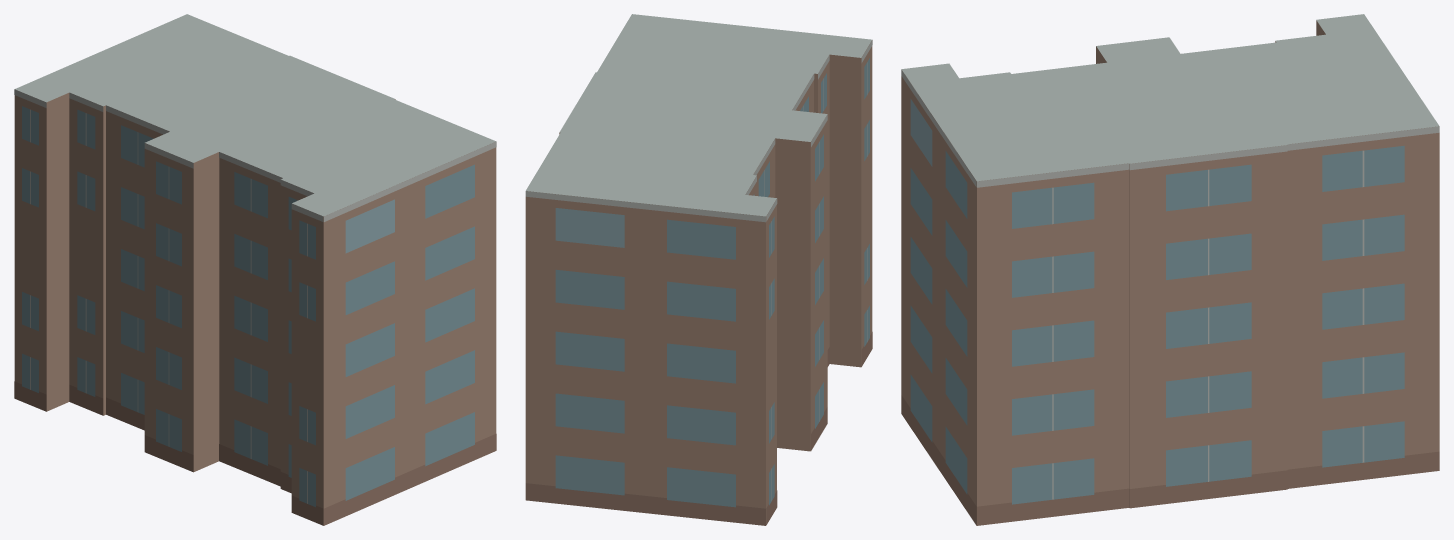
File: survey-upis-32620478.glb
3 renders of one model, left to right at view 1: azimuth 30°, elevation 25°; view 2: azimuth 150°, elevation 25°; view 3: azimuth 270°, elevation 25°, orthographic. The views are drawn at different scales.
Visible parts, largest first — view 1: survey-upis-32620478.tmp; view 2: survey-upis-32620478.tmp; view 3: survey-upis-32620478.tmp.
Part boxes in pixels (<box>): survey-upis-32620478.tmp: <box>14,14,496,525</box>; survey-upis-32620478.tmp: <box>525,14,872,525</box>; survey-upis-32620478.tmp: <box>901,14,1439,525</box>.
Size of the model in its own units: 13.55 by 13 by 18.42.
